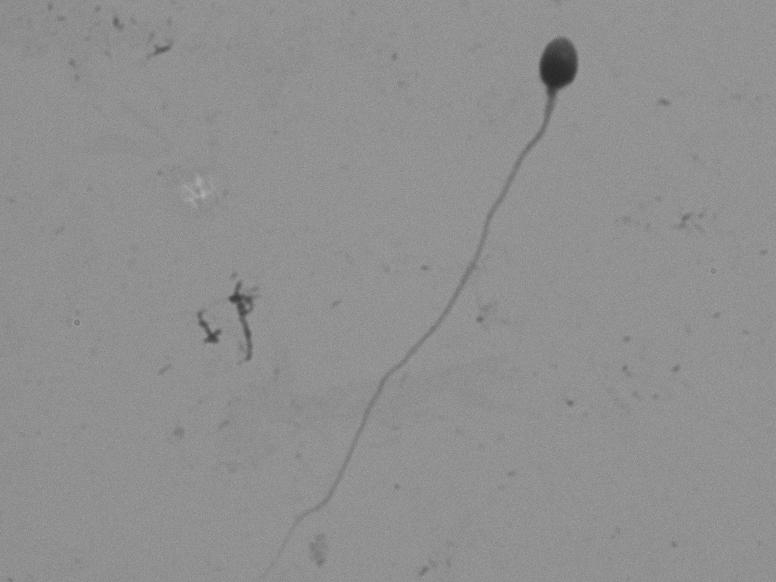Normal: (269, 20, 622, 564)
